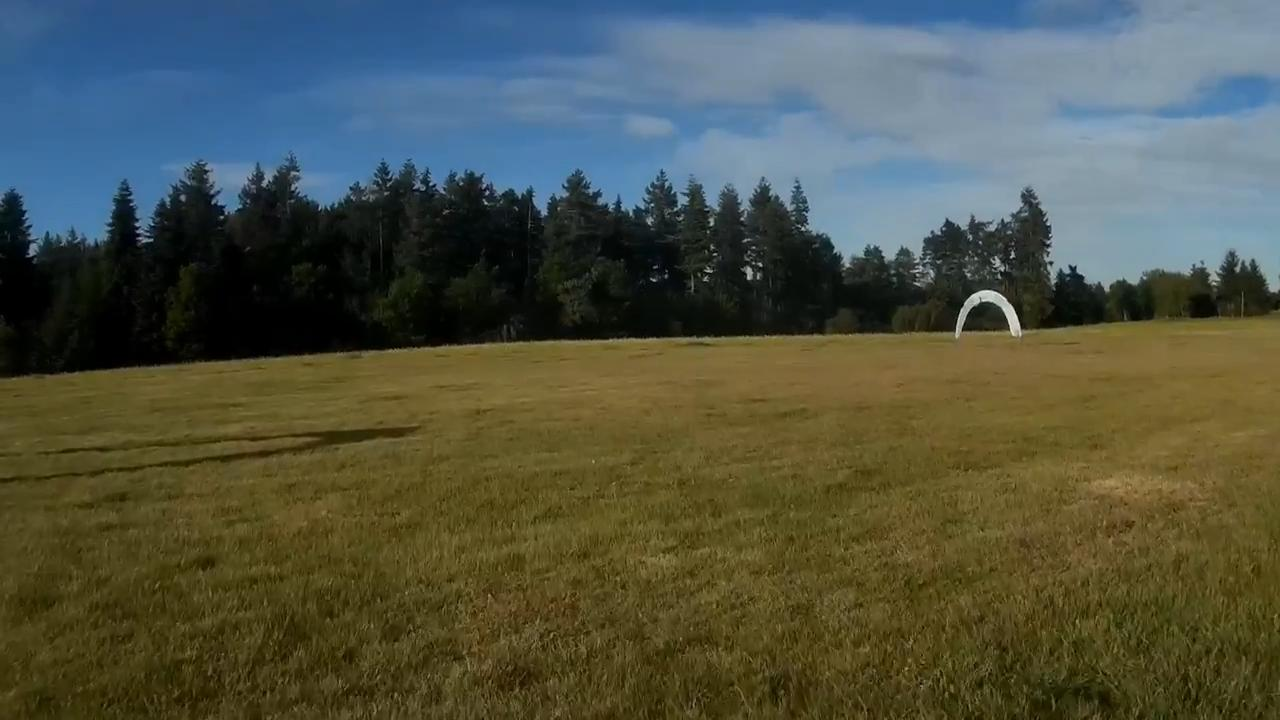gate: (953, 290, 1020, 341)
